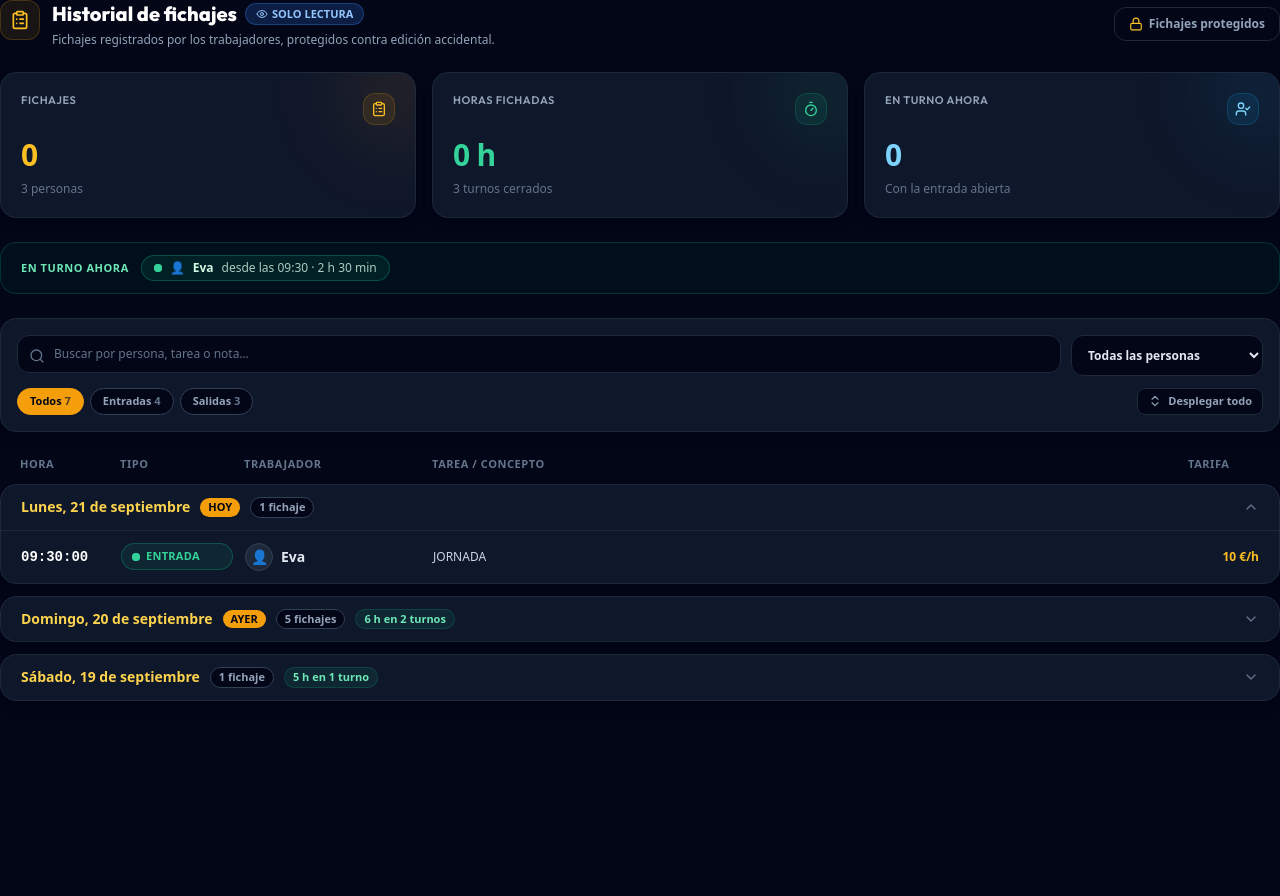
it: FichajesTab › una salida de madrugada dice cuándo empezó su turno (no parece una salida sin entrada)
This screenshot has width=1280, height=896.
Click the button "Domingo, 20 de septiembre Ayer 5 fichajes 6 h en 2 turnos": (117, 618) [1, 596, 1279, 641]
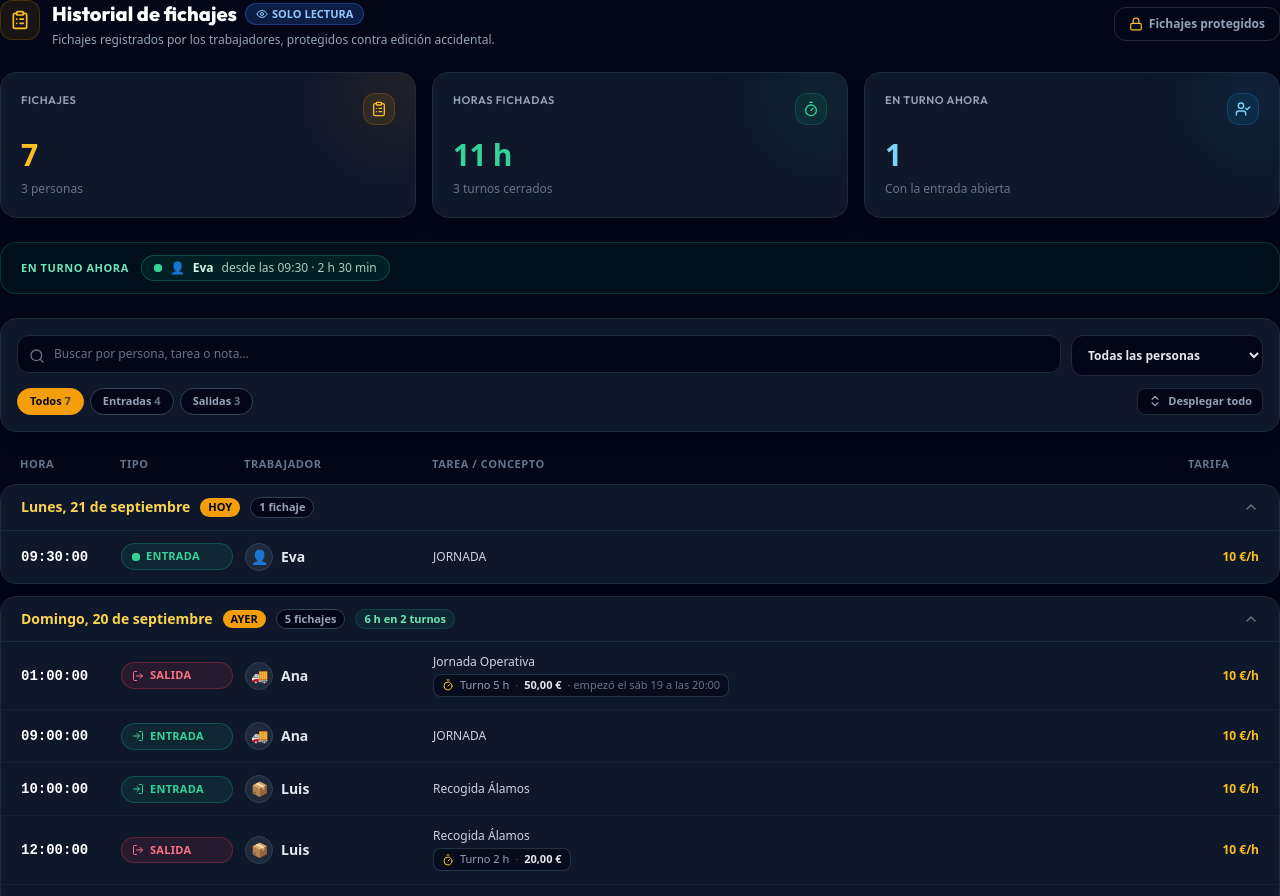
Result: the text "· empezó el sáb 19 a las 20:00" is shown at [568, 677, 720, 694]
